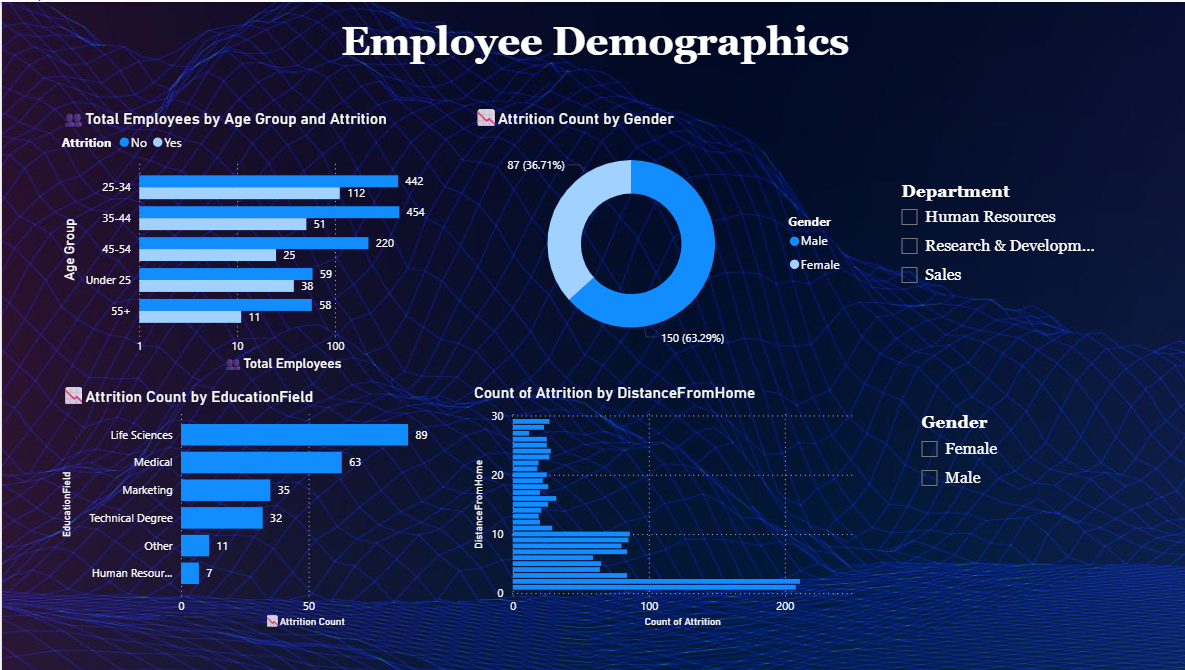

This screenshot's page, from the dashboard's own definition file:
{"tool":"powerbi","page":{"name":"Employee Demographics","canvas":[1280,720],"ordinal":1},"visuals":[{"type":"clusteredBarChart","fields":{"Category":["HR Data.Age Group"],"Y":["Table.Total Employees"],"Series":["HR Data.Attrition"]},"box":[59.2,111.7,411.9,290.8],"z":0},{"type":"donutChart","fields":{"Category":["HR Data.Gender"],"Y":["Table.Attrition Count"]},"box":[503.5,111.7,414.6,278.7],"z":1000},{"type":"barChart","fields":{"Category":["HR Data.EducationField"],"Y":["Table.Attrition Count"]},"box":[59.2,410.6,411.9,267.9],"z":2000},{"type":"barChart","fields":{"Category":["HR Data.DistanceFromHome"],"Y":["CountNonNull(HR Data.Attrition)"]},"box":[503.5,410.6,428.1,267.9],"z":3000},{"type":"textbox","box":[281.4,13.5,714.9,111.7],"z":5000},{"type":"slicer","fields":{"Values":["HR Data.Department"]},"box":[955.8,188.5,232.9,149.4],"z":6000},{"type":"slicer","fields":{"Values":["HR Data.Gender"]},"box":[977.4,437.5,232.9,144],"z":7000}]}

Visuals, with their boxes in screenshot pixels (x1, y1, x2, y2), scaled from the page's 1280x720 canvas onto the 1185x670 screenshot:
clusteredBarChart - HR Data.Age Group x Table.Total Employees: 55/104/436/375
donutChart - HR Data.Gender x Table.Attrition Count: 466/104/850/363
barChart - HR Data.EducationField x Table.Attrition Count: 55/382/436/631
barChart - HR Data.DistanceFromHome x CountNonNull(HR Data.Attrition): 466/382/862/631
textbox: 261/13/922/117
slicer - HR Data.Department: 885/175/1100/314
slicer - HR Data.Gender: 905/407/1120/541
